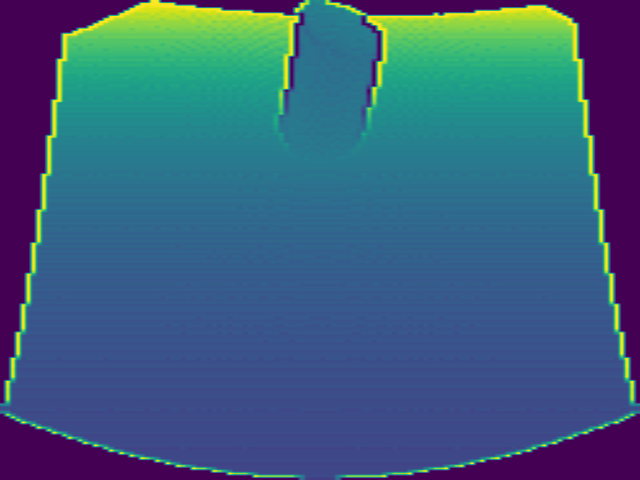cylinder: (278, 1, 385, 157)
